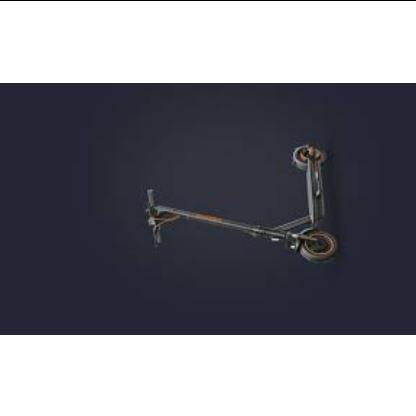bike: (145, 142, 339, 264)
